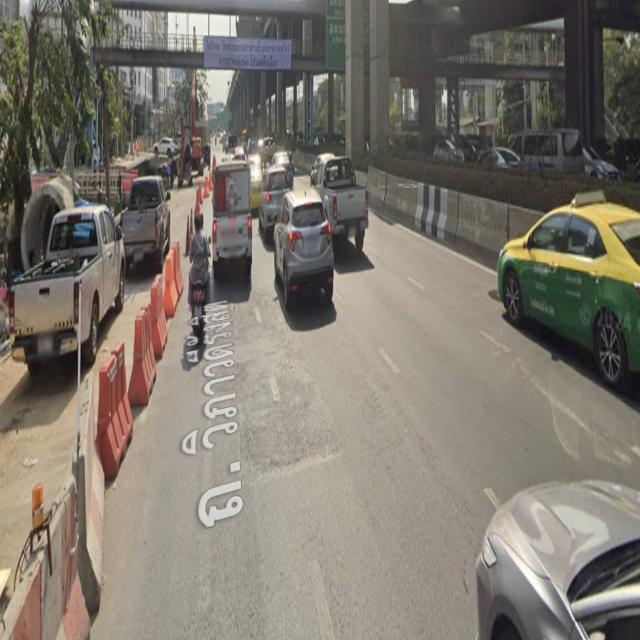fallen_object: (6, 430, 136, 640), (360, 150, 529, 259), (89, 316, 169, 465), (146, 233, 192, 327)
